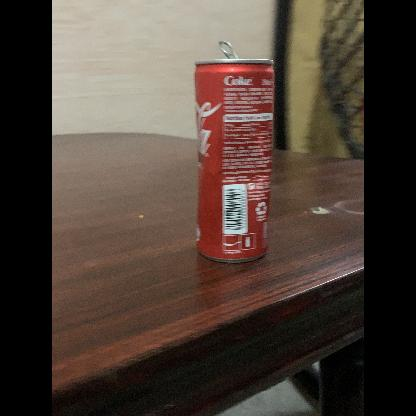Dent_Can: (223, 154, 271, 180), (213, 160, 240, 180), (197, 150, 213, 171)
Lid_Open: (212, 36, 246, 64)
Tin_Can: (183, 37, 279, 263)
